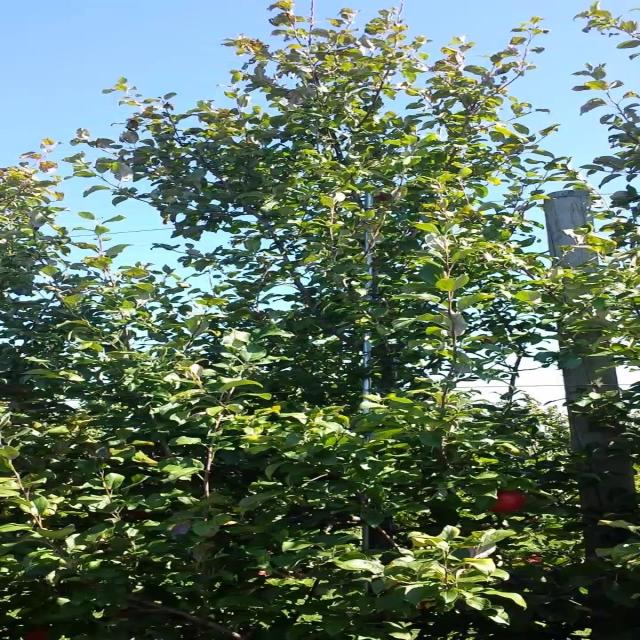apple: (490, 492, 528, 515), (28, 632, 50, 640), (376, 196, 391, 200)
